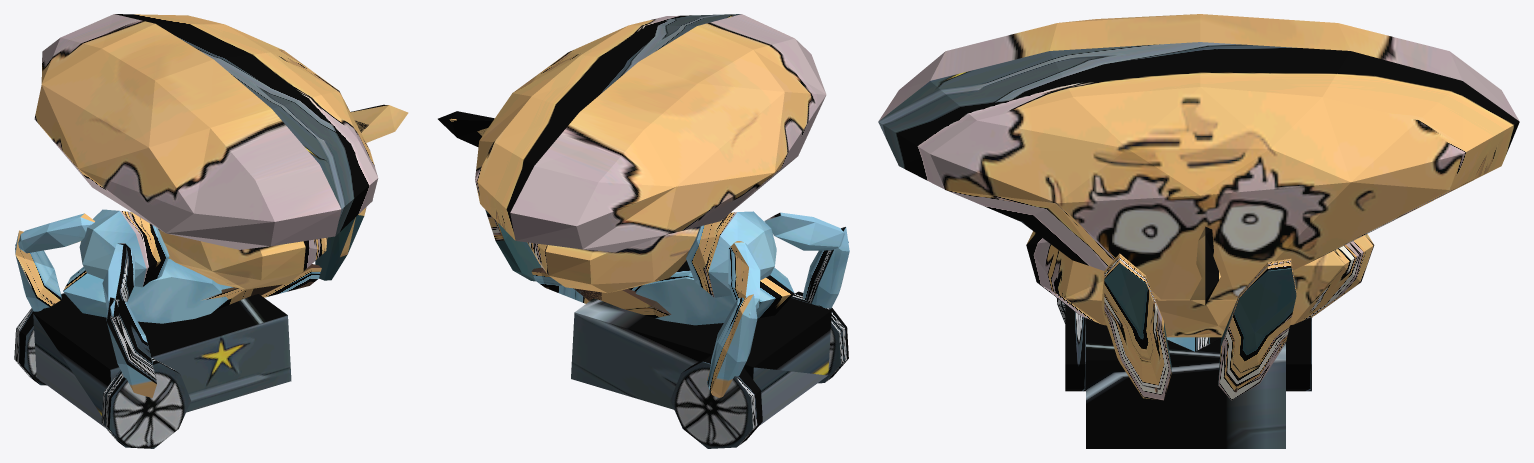
Rendered from Oldguy1.glb.
3 views of the same model, side by side, from view 1: azimuth 30°, elevation 25°; view 2: azimuth 150°, elevation 25°; view 3: azimuth 270°, elevation 25° (orthographic). The views are drawn at different scales.
Parts seen in each view (by area): view 1: Oldguy1; view 2: Oldguy1; view 3: Oldguy1.
Boxes of the visible parts, left/top/right/bottom form: Oldguy1: left=14, top=14, right=408, bottom=448; Oldguy1: left=438, top=14, right=849, bottom=448; Oldguy1: left=878, top=14, right=1519, bottom=448.
Bounding box in the file's own units: 83.42 × 72.77 × 101.
1 material, 1 textured.
